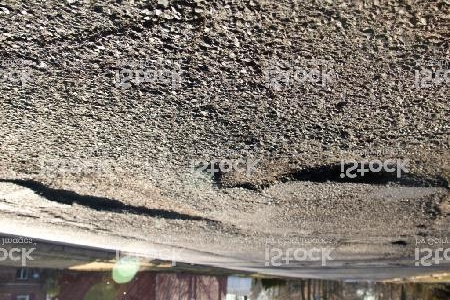pothole: (5, 163, 216, 227), (204, 149, 449, 195)
